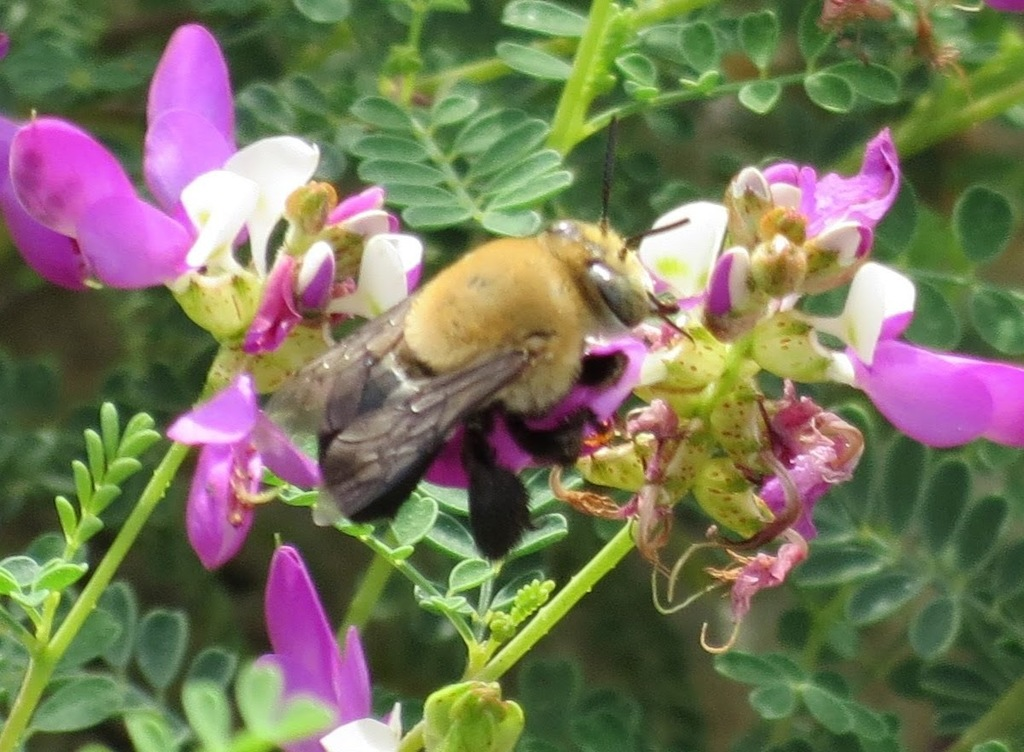not_bumblebee: (262, 113, 698, 567)
